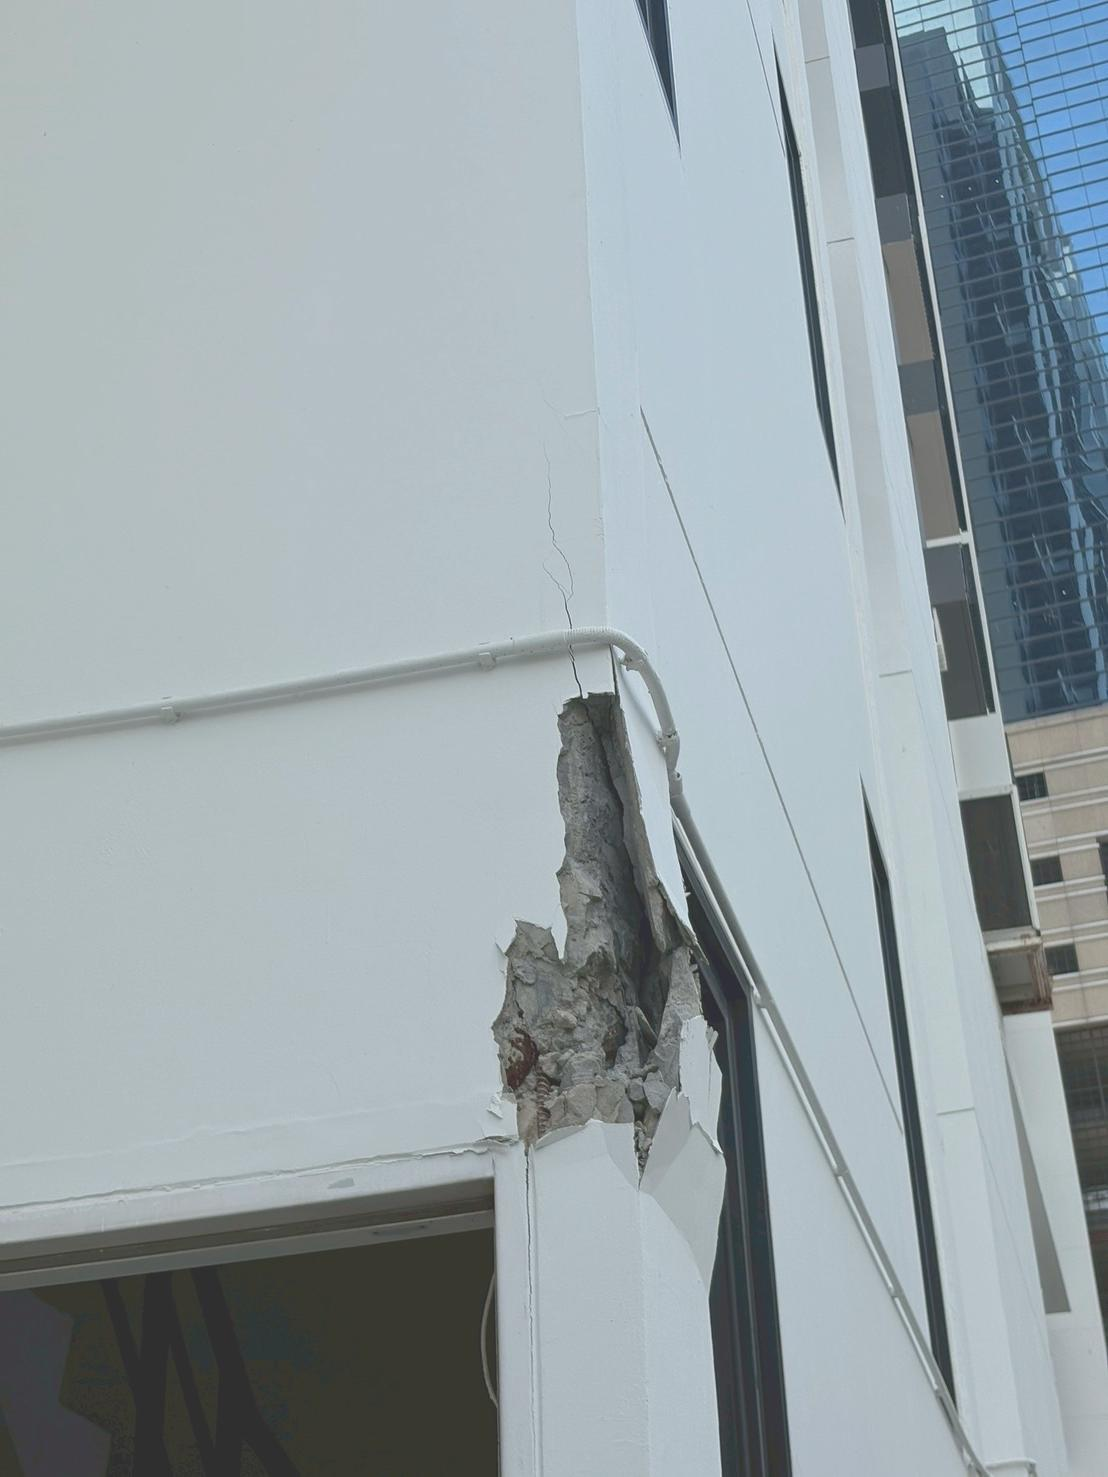High: (468, 635, 747, 1454)
